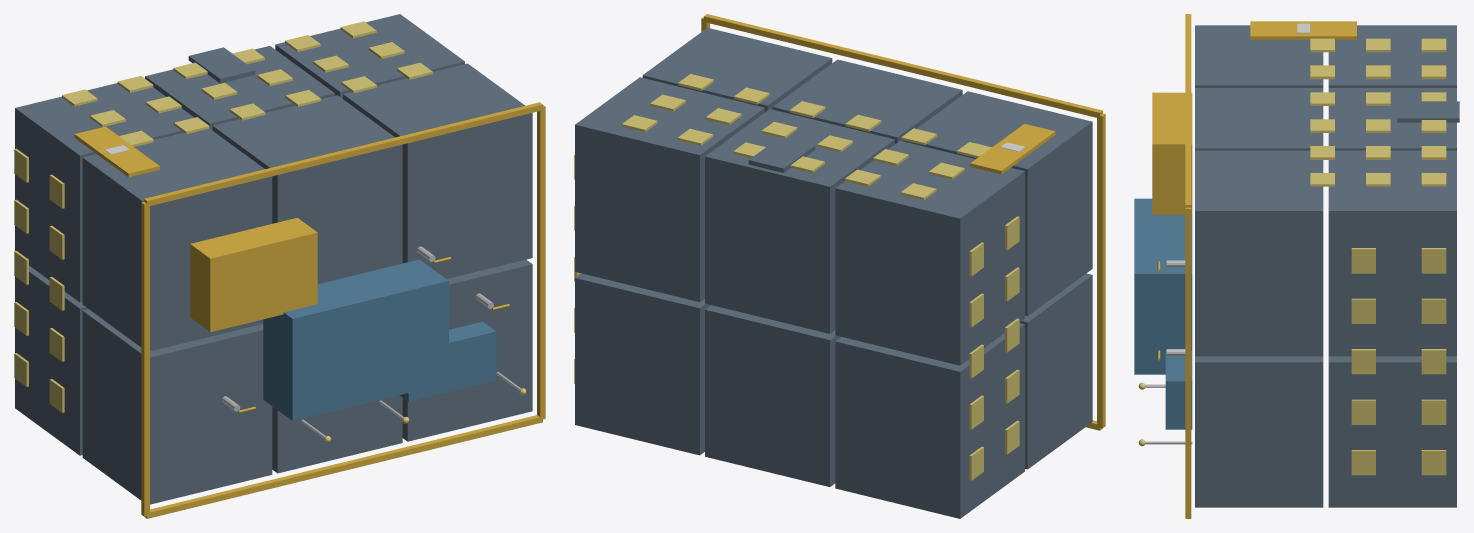
The model's file is building-mining-hq.glb.
3 views of the same model, side by side, from view 1: azimuth 30°, elevation 25°; view 2: azimuth 150°, elevation 25°; view 3: azimuth 270°, elevation 25° (orthographic).
Parts seen in each view (by area): view 1: world; view 2: world; view 3: world.
Boxes of the visible parts, bbox=[...] form: world: bbox=[14, 14, 545, 518]; world: bbox=[574, 14, 1105, 518]; world: bbox=[1134, 14, 1459, 518].
Bounding box in the file's own units: 20.56 × 15.57 × 14.6.
